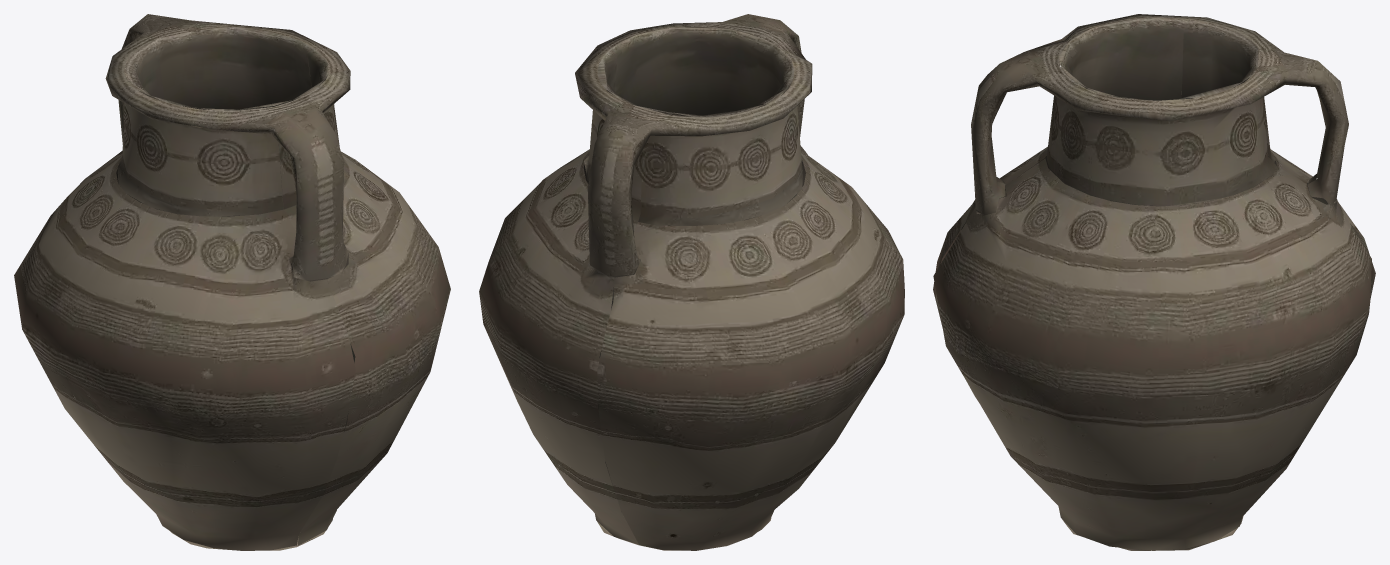
Rendered from amphora.glb.
3 views of the same model, side by side, from view 1: azimuth 30°, elevation 25°; view 2: azimuth 150°, elevation 25°; view 3: azimuth 270°, elevation 25° (orthographic).
Parts seen in each view (by area): view 1: VASE_7_ready; view 2: VASE_7_ready; view 3: VASE_7_ready.
Boxes of the visible parts, x1,y1,x2,y2 form: VASE_7_ready: [14, 14, 450, 550]; VASE_7_ready: [479, 14, 904, 550]; VASE_7_ready: [933, 14, 1375, 550].
Size of the model in its own units: 0.3326 by 0.389 by 0.3452.
1 material, 1 textured.
